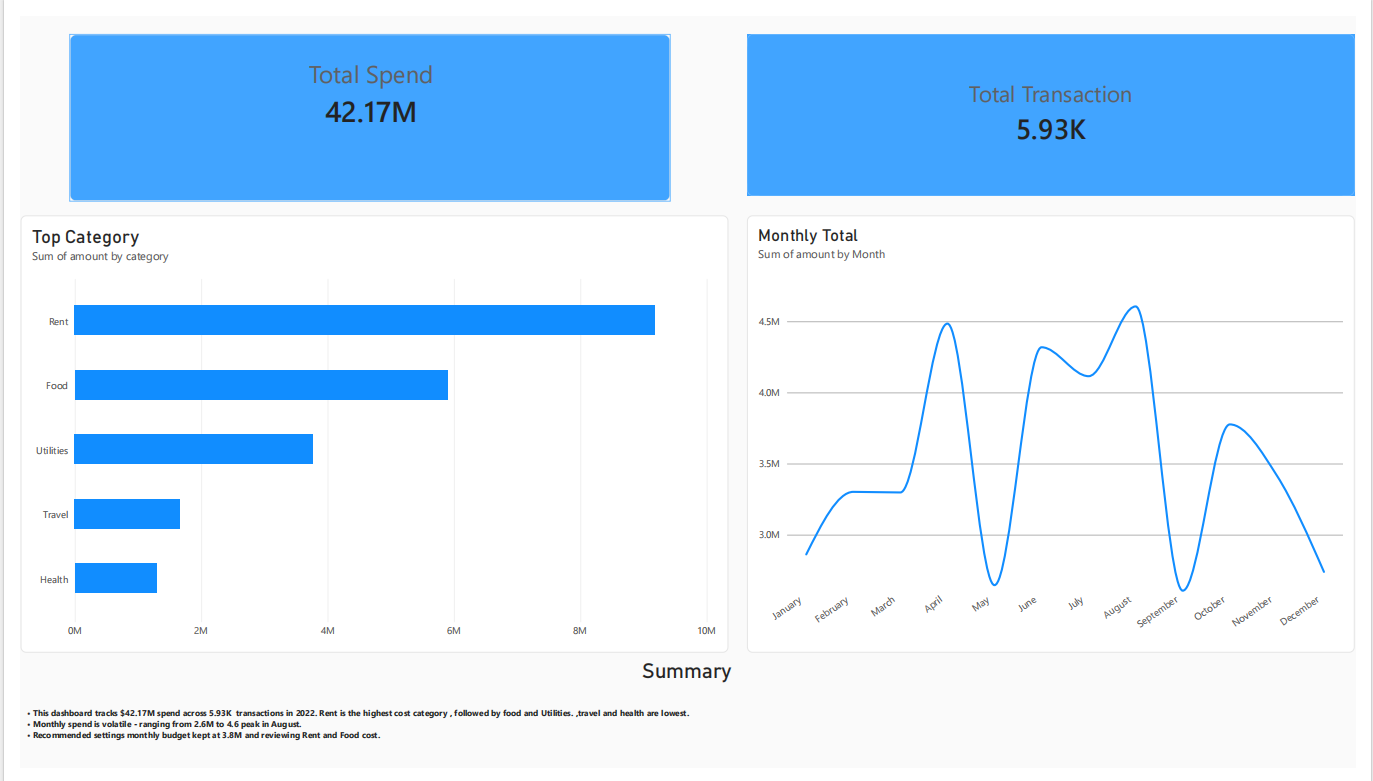

What the dashboard file says about the page in this screenshot:
{"tool":"powerbi","page":{"name":"Page 1","canvas":[1920,1080],"ordinal":0},"visuals":[{"type":"cardVisual","fields":{"Data":["Sum(clean_budget.amount)"]},"box":[50,25,885.8,261.2],"z":0},{"type":"cardVisual","fields":{"Data":["CountNonNull(clean_budget.amount)"]},"box":[1044.8,25,874.5,233.9],"z":1},{"type":"barChart","title":"Top Category","fields":{"Category":["clean_budget.category"],"Y":["Sum(clean_budget.amount)"]},"box":[0,286.2,1017.5,629.2],"z":2},{"type":"lineChart","title":"Monthly Total","fields":{"Category":["clean_budget.date.Variation.Date Hierarchy.Month"],"Y":["Sum(clean_budget.amount)"]},"box":[1044.8,286.2,874.5,629.2],"z":3},{"type":"textbox","title":"Summary","box":[0,924.4,1919.3,154.4],"z":4}]}

Visuals, with their boxes in screenshot pixels (x1, y1, x2, y2), scaled from the page's 1920x1080 canvas onto the 1373x781 screenshot:
cardVisual - Sum(clean_budget.amount): <bbox>36, 18, 669, 207</bbox>
cardVisual - CountNonNull(clean_budget.amount): <bbox>747, 18, 1372, 187</bbox>
"Top Category" barChart: <bbox>0, 207, 728, 662</bbox>
"Monthly Total" lineChart: <bbox>747, 207, 1372, 662</bbox>
"Summary" textbox: <bbox>0, 668, 1372, 780</bbox>
